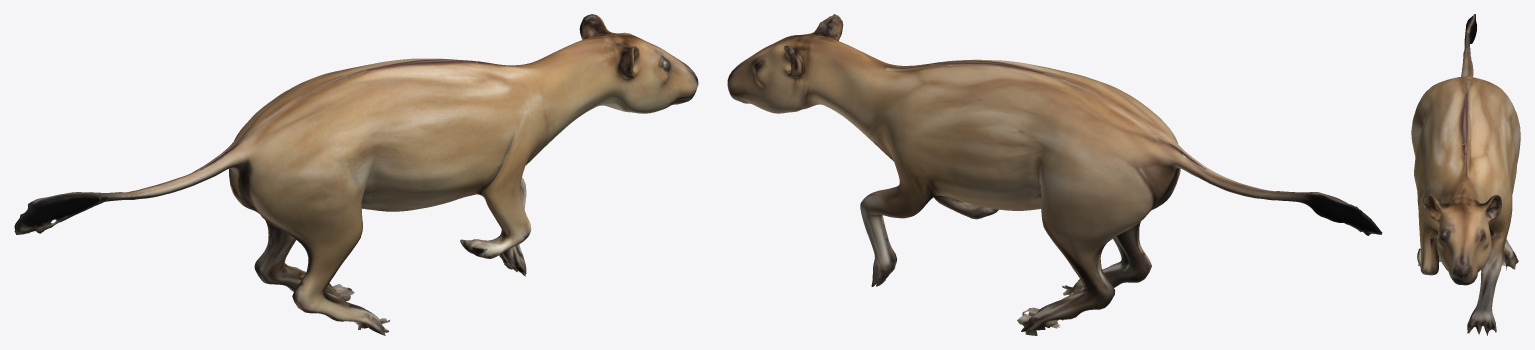
The model's file is 2HorseAnc.glb.
3 renders of one model, left to right at view 1: azimuth 30°, elevation 25°; view 2: azimuth 150°, elevation 25°; view 3: azimuth 270°, elevation 25°, orthographic. The views are drawn at different scales.
Parts seen in each view (by area): view 1: Mesh_0; view 2: Mesh_0; view 3: Mesh_0.
Boxes of the visible parts, x1=… form: Mesh_0: x1=14, y1=14, x2=698, y2=335; Mesh_0: x1=727, y1=14, x2=1382, y2=335; Mesh_0: x1=1411, y1=14, x2=1520, y2=335.
Size of the model in its own units: 1.98 by 0.6955 by 0.3716.
1 material, 1 textured.
